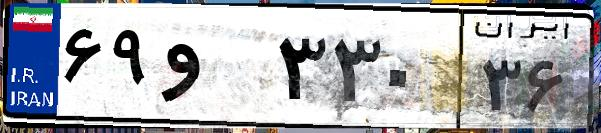0: (385, 28, 445, 110)
3: (270, 28, 330, 110), (330, 28, 385, 110), (475, 38, 525, 113)
6: (57, 26, 110, 100), (525, 38, 570, 115)
9: (110, 28, 158, 98)
و: (158, 20, 270, 120)
